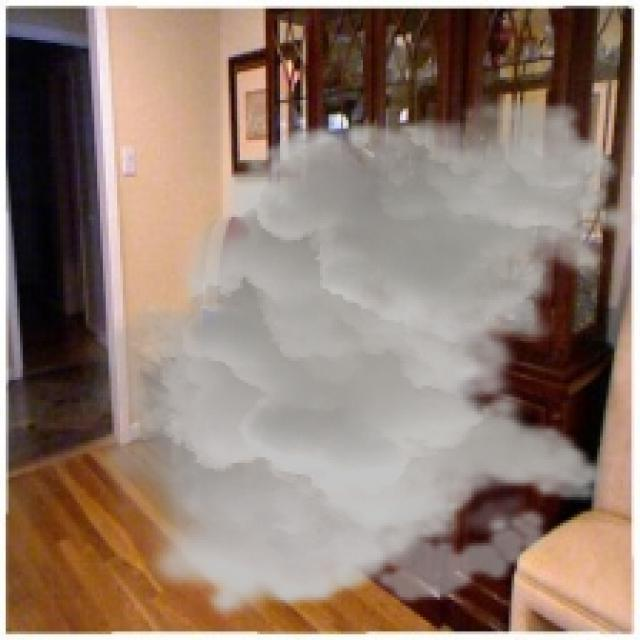Smoke: (74, 94, 637, 623)
